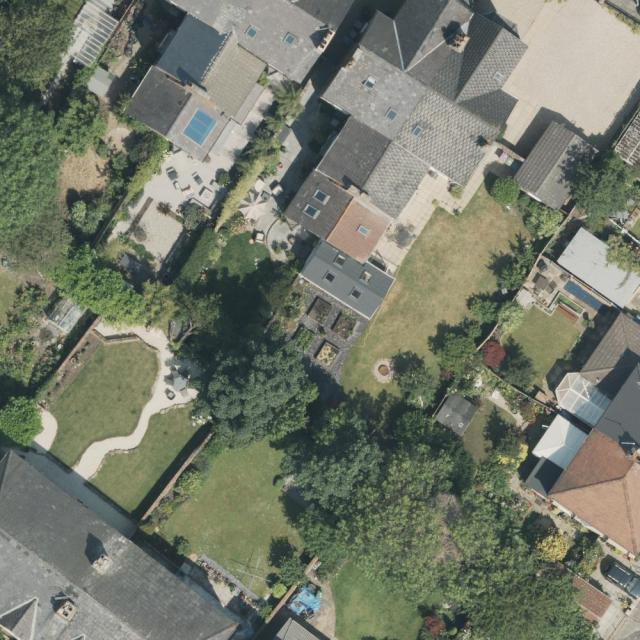roof: (282, 0, 528, 323), (0, 450, 239, 640), (118, 0, 355, 163), (524, 311, 640, 559), (512, 119, 600, 212), (274, 614, 324, 640)
skylight: (554, 370, 616, 430), (179, 105, 219, 149), (279, 28, 300, 50), (300, 201, 322, 220), (312, 186, 331, 204), (363, 73, 380, 93), (243, 24, 261, 42), (330, 251, 348, 269), (347, 286, 366, 302), (357, 268, 373, 286), (383, 105, 398, 123), (410, 122, 424, 140), (321, 270, 337, 285), (355, 223, 370, 238), (492, 69, 506, 84)
